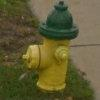Hydrant: (20, 3, 78, 94)
